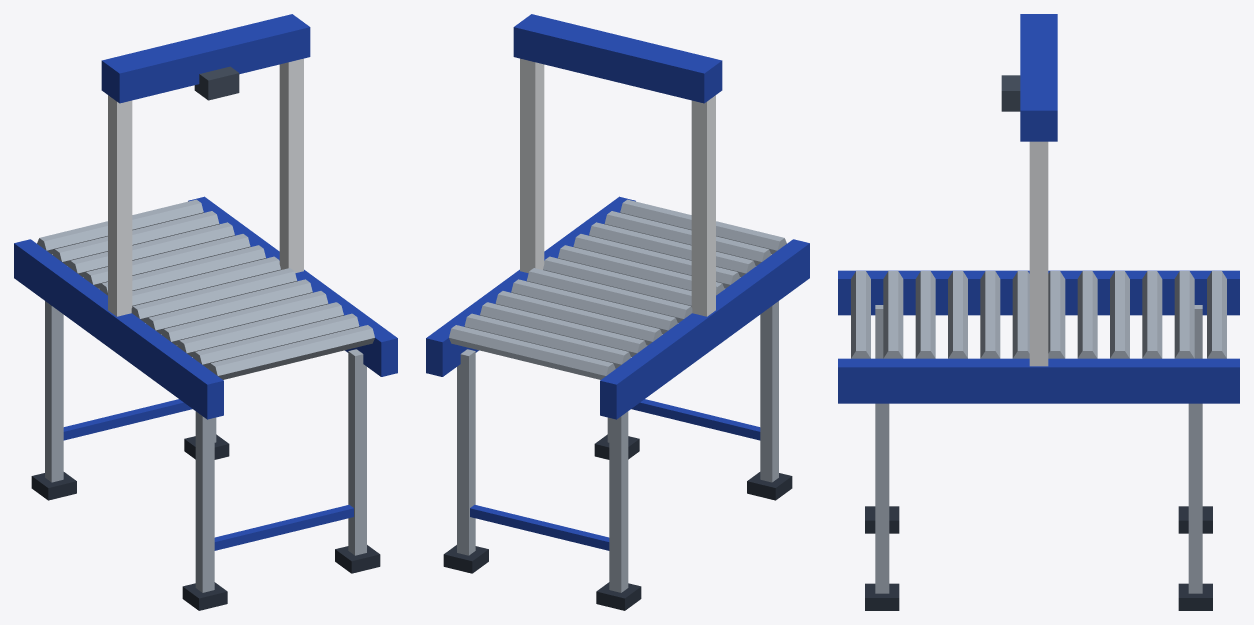
File: SM_MPR_ScanGate.fbx
3 views of the same model, side by side, from view 1: azimuth 30°, elevation 25°; view 2: azimuth 150°, elevation 25°; view 3: azimuth 270°, elevation 25° (orthographic). The views are drawn at different scales.
Visible parts, largest first — view 1: SM_MPR_ScanGate; view 2: SM_MPR_ScanGate; view 3: SM_MPR_ScanGate.
Part boxes in pixels (box(x1,y1,x2,y2)): SM_MPR_ScanGate: box(14, 14, 397, 610); SM_MPR_ScanGate: box(426, 14, 809, 610); SM_MPR_ScanGate: box(838, 14, 1239, 610).
Size of the model in its own units: 80 by 141 by 194.
